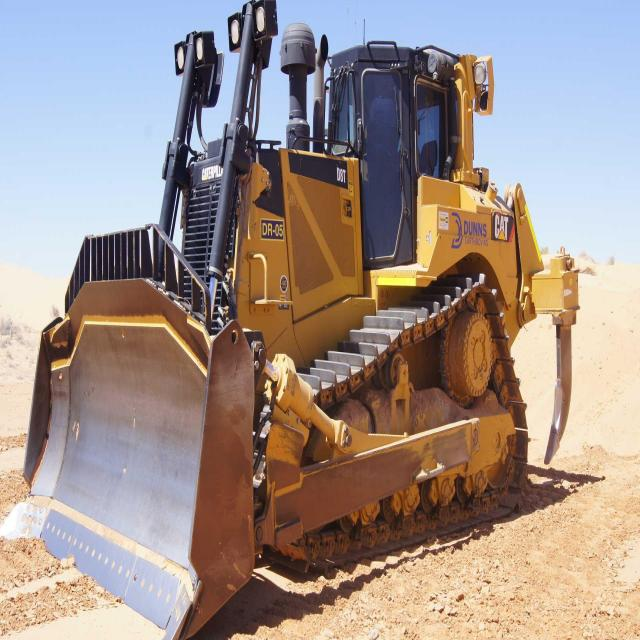Bulldozer: (31, 5, 609, 628)
